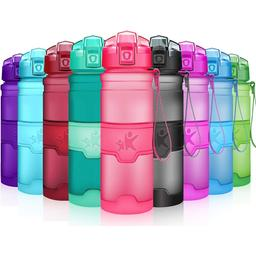plastic: (99, 28, 156, 125), (146, 28, 183, 119)
